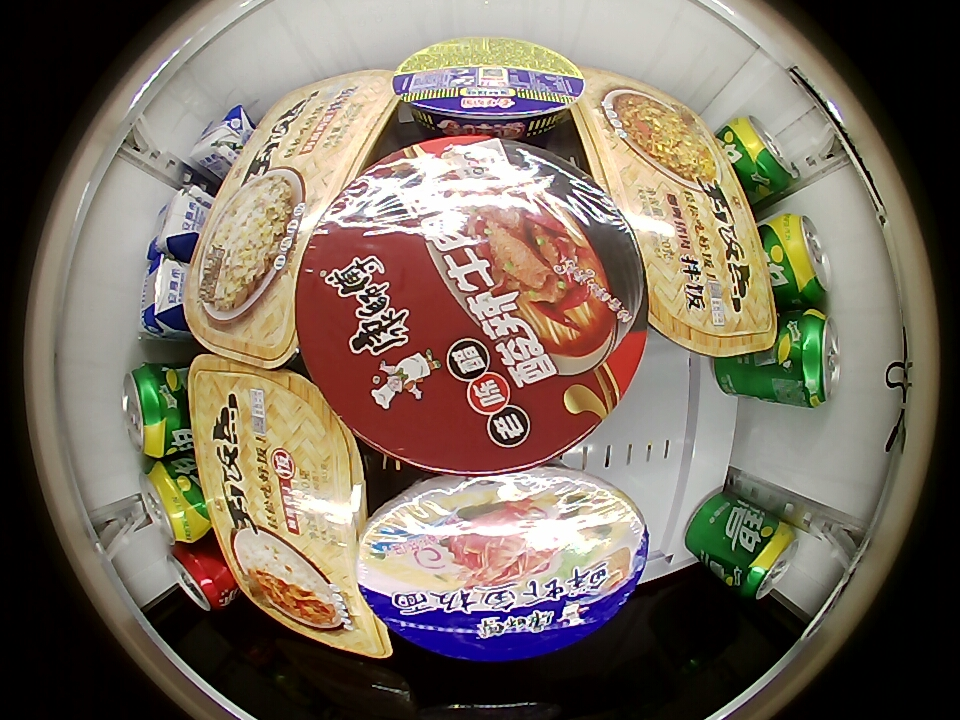anmuxi: (148, 182, 210, 260), (189, 106, 253, 174), (139, 252, 188, 340)
daofandian1: (182, 75, 391, 369)
daofandian3: (571, 65, 779, 358)
daofandian4: (188, 354, 384, 664)
heweidao: (390, 36, 586, 137)
kele: (168, 542, 230, 611)
suanlaniurou: (292, 132, 648, 474)
xianxiayuban: (354, 466, 651, 661)
xuebi2: (780, 308, 840, 409), (724, 114, 796, 195), (770, 212, 832, 304), (122, 362, 179, 458), (733, 520, 799, 600), (139, 460, 201, 545)
